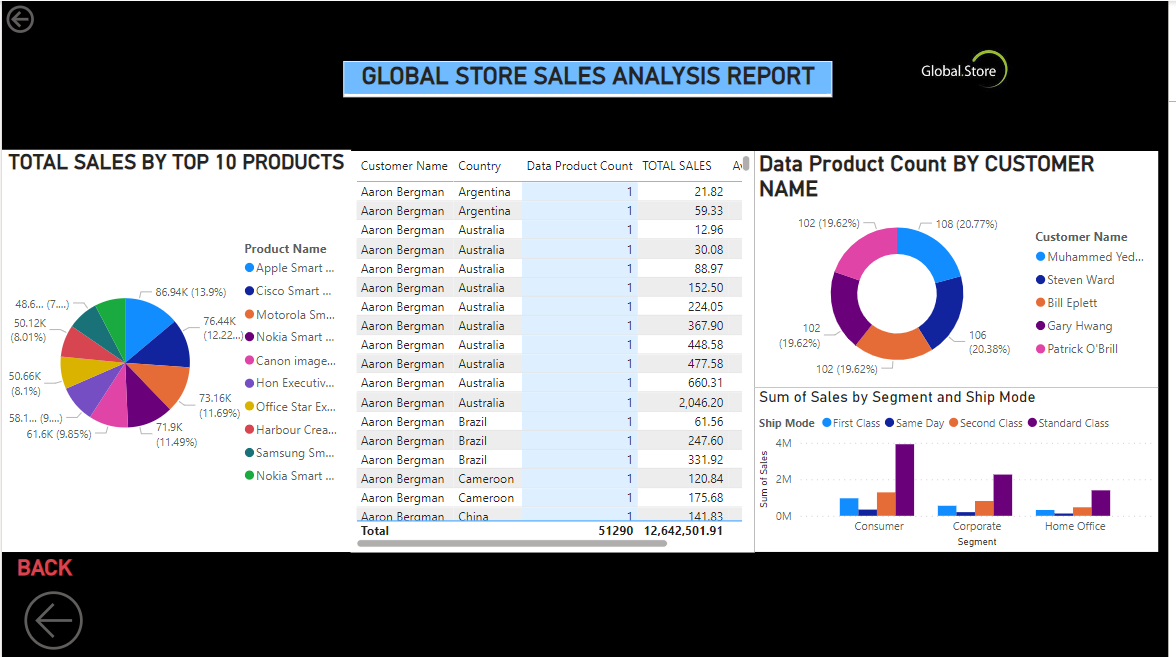

The page's visual inventory and layout, read from the dashboard file:
{"tool":"powerbi","page":{"name":"Page 2","canvas":[1280,720],"ordinal":1},"visuals":[{"type":"pieChart","title":"TOTAL SALES BY TOP 10 PRODUCTS","fields":{"Category":["Orders.Product Name"],"Y":["Orders.TOTAL SALES"]},"box":[0,163.3,382.8,402.1],"z":0},{"type":"tableEx","fields":{"Values":["Orders.Customer Name","Orders.Country","Orders.Data Product Count","Orders.TOTAL SALES","Orders.Avg Product Price"]},"box":[382.8,164.7,443.2,440.5],"z":1000},{"type":"actionButton","box":[0,0,100,40],"z":2000},{"type":"donutChart","title":"Data Product Count  BY CUSTOMER NAME","fields":{"Category":["Orders.Customer Name"],"Y":["Orders.Data Product Count"]},"box":[827.4,175.6,443.2,259.3],"z":3000},{"type":"actionButton","title":"BACK","box":[16.5,607.9,146.8,112.5],"z":4000},{"type":"image","box":[927.6,0,258,163.3],"z":5000},{"type":"textbox","title":"GLOBAL STORE SALES ANALYSIS REPORT","box":[375,66.3,536.5,39.8],"z":6000}]}

Visuals, with their boxes in screenshot pixels (x1, y1, x2, y2), scaled from the page's 1280x720 canvas onto the 1176x657 screenshot:
"TOTAL SALES BY TOP 10 PRODUCTS" pieChart: left=0, top=149, right=352, bottom=516
tableEx - Orders.Customer Name x Orders.Country: left=352, top=150, right=759, bottom=552
actionButton: left=0, top=0, right=92, bottom=36
"Data Product Count  BY CUSTOMER NAME" donutChart: left=760, top=160, right=1167, bottom=397
"BACK" actionButton: left=15, top=555, right=150, bottom=656
image: left=852, top=0, right=1089, bottom=149
"GLOBAL STORE SALES ANALYSIS REPORT" textbox: left=345, top=60, right=837, bottom=97
